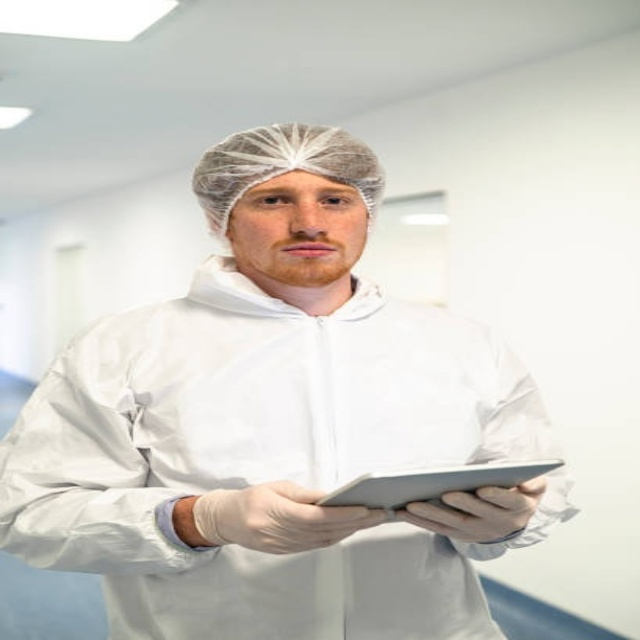Guantes: (195, 478, 401, 555), (398, 476, 547, 545)
Sin_gafas: (249, 185, 354, 220)
Sin_mascara: (274, 235, 346, 271)
